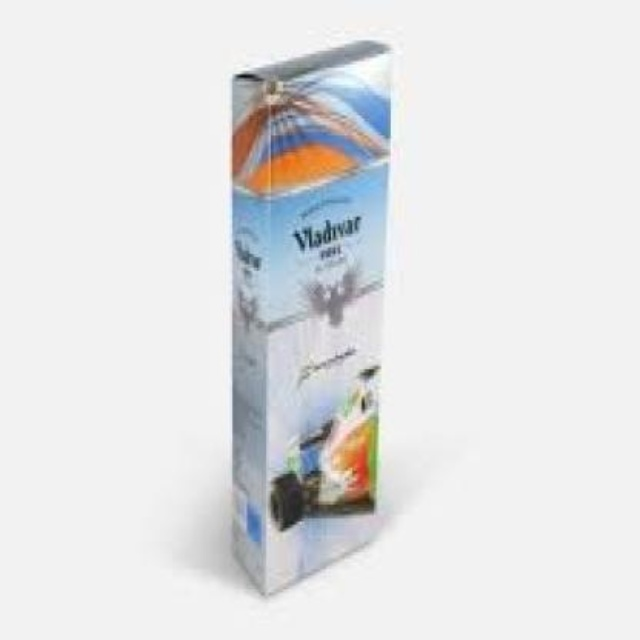trash: (231, 40, 391, 591)
